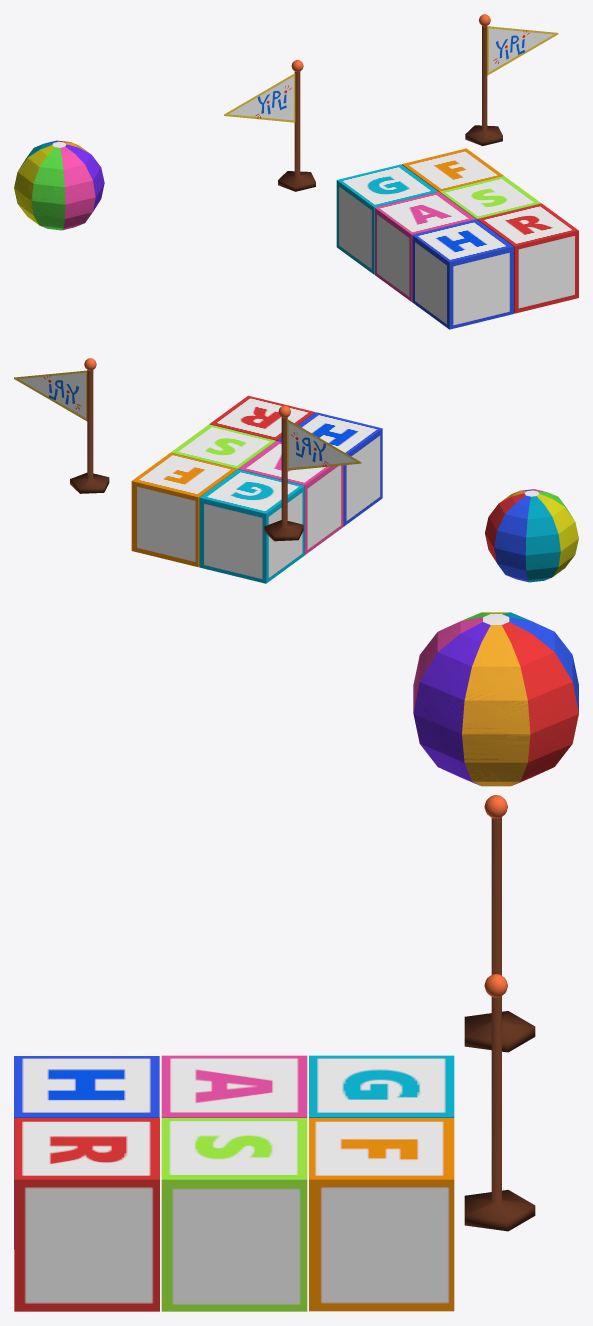
The model's file is Word_Props.fbx.
3 views of the same model, one above another, from view 1: azimuth 30°, elevation 25°; view 2: azimuth 150°, elevation 25°; view 3: azimuth 270°, elevation 25° (orthographic). The views are drawn at different scales.
Parts seen in each view (by area): view 1: Icosphere.002; view 2: Icosphere.002; view 3: Icosphere.002.
Part boxes in pixels (<box>): Icosphere.002: <box>14,14,578,329</box>; Icosphere.002: <box>14,358,578,583</box>; Icosphere.002: <box>14,612,578,1311</box>.
Size of the model in its own units: 966 by 321 by 451.
